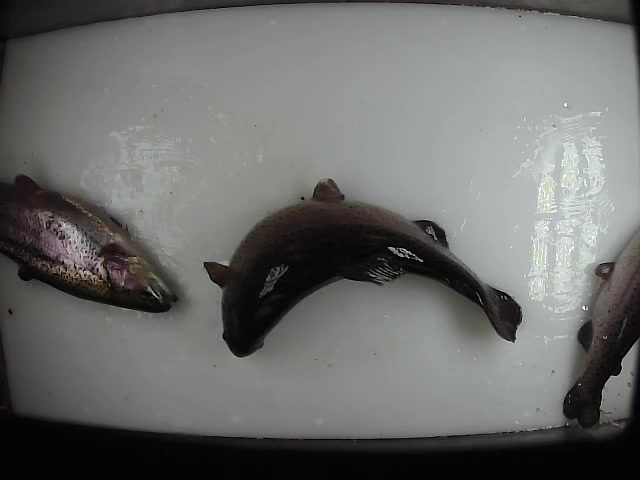fish: (202, 177, 525, 360)
